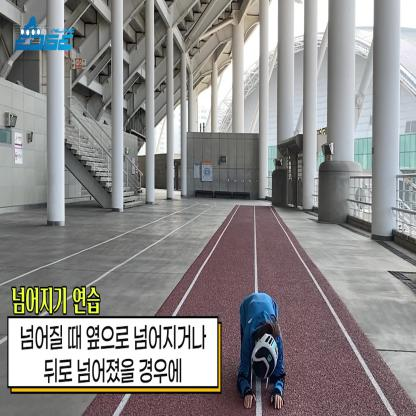Fall_Down: (238, 290, 285, 411)
